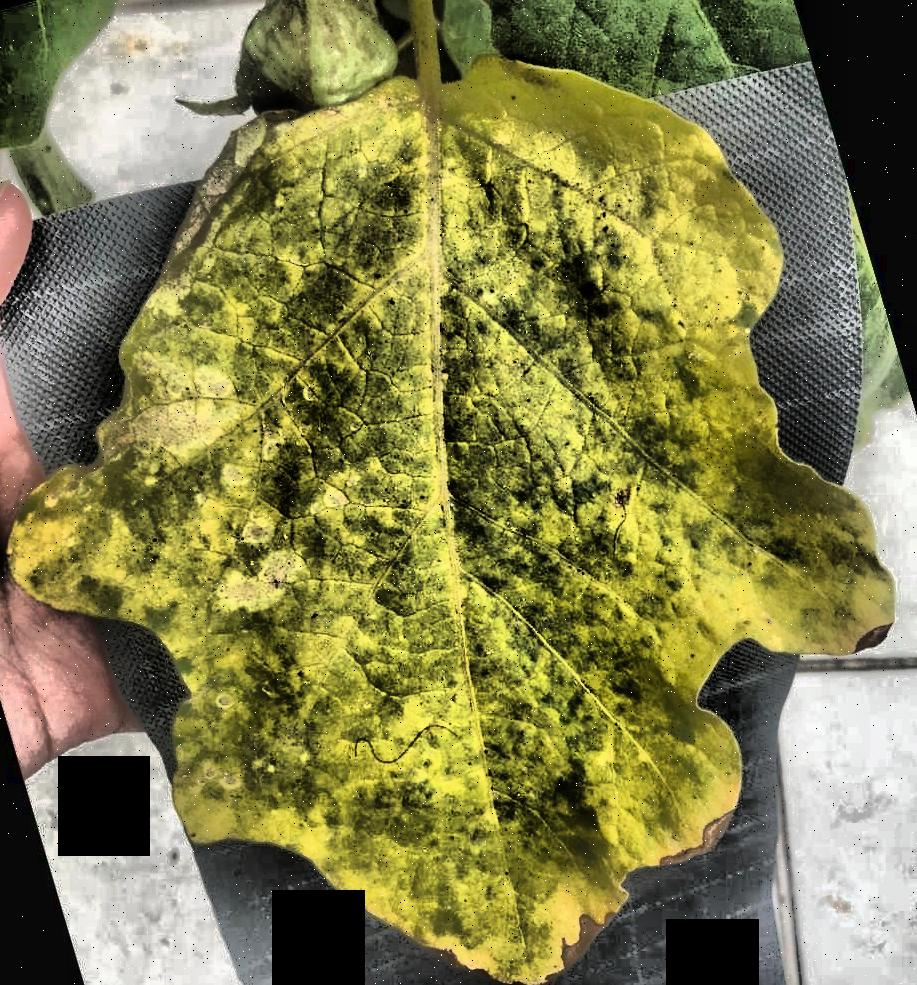Critical Stress: (0, 1, 917, 985)
